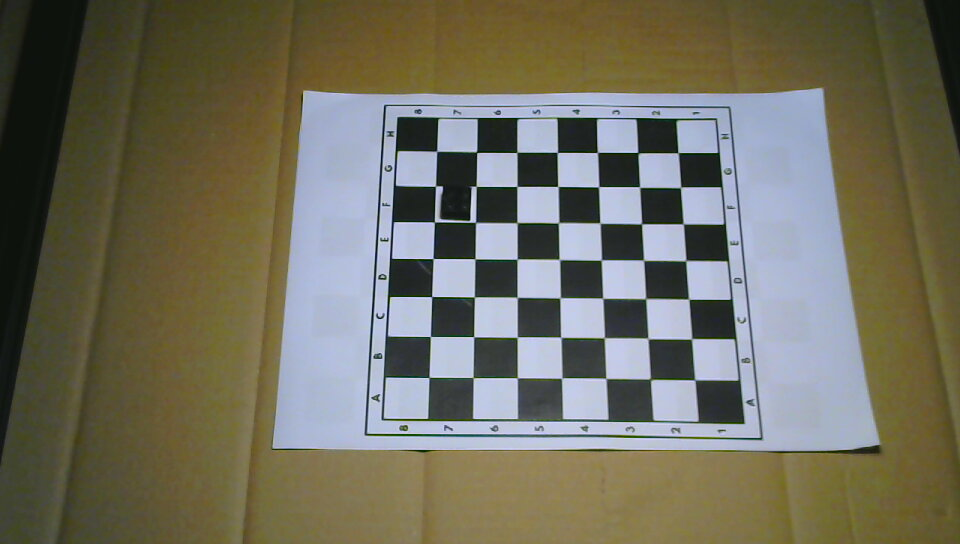bp: (439, 182, 472, 219)
